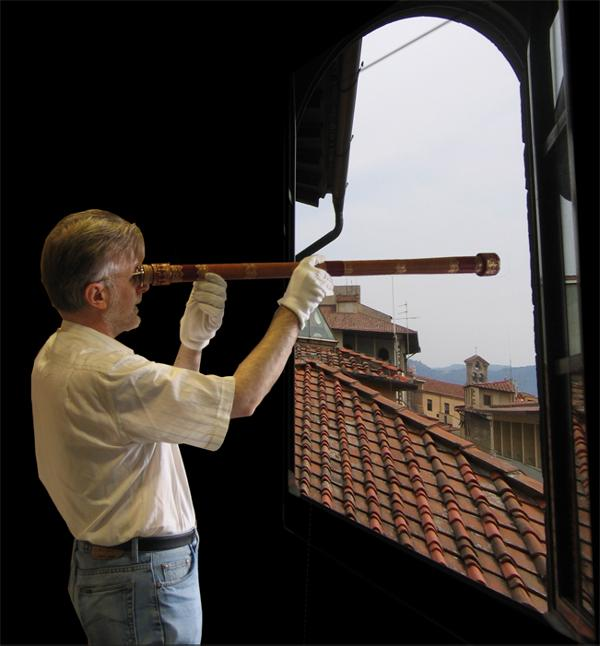person: (30, 206, 335, 641)
